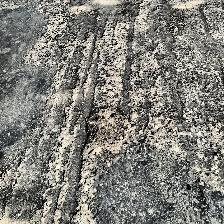pothole: (80, 105, 130, 158)
